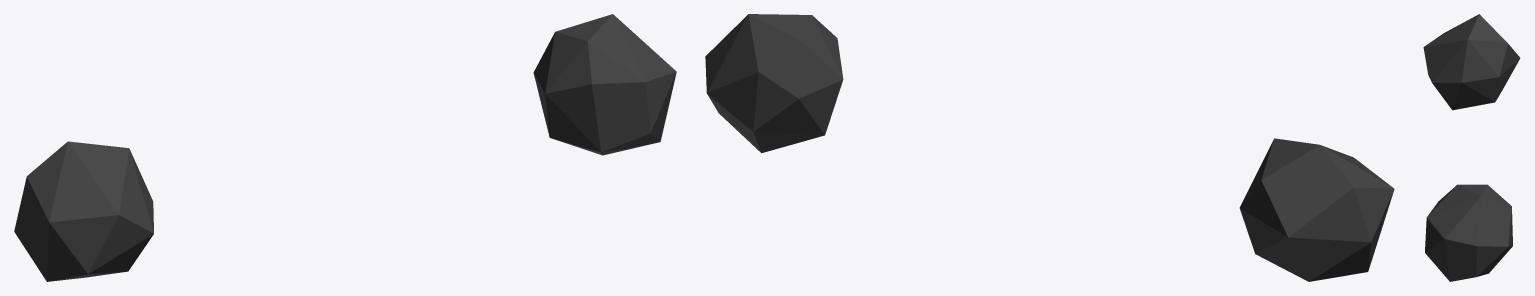
Rendered from details_head_eye.glb.
3 renders of one model, left to right at view 1: azimuth 30°, elevation 25°; view 2: azimuth 150°, elevation 25°; view 3: azimuth 270°, elevation 25°, orthographic. The views are drawn at different scales.
Parts seen in each view (by area): view 1: details_head_eye; view 2: details_head_eye; view 3: details_head_eye.
Part boxes in pixels (x1,y1,x2,y2): details_head_eye: (14,14,676,281); details_head_eye: (705,14,1394,281); details_head_eye: (1423,14,1520,281).
Bounding box in the file's own units: 0.00362 × 0.000739 × 0.000712.
Materials: 1 (1 with a texture image).
